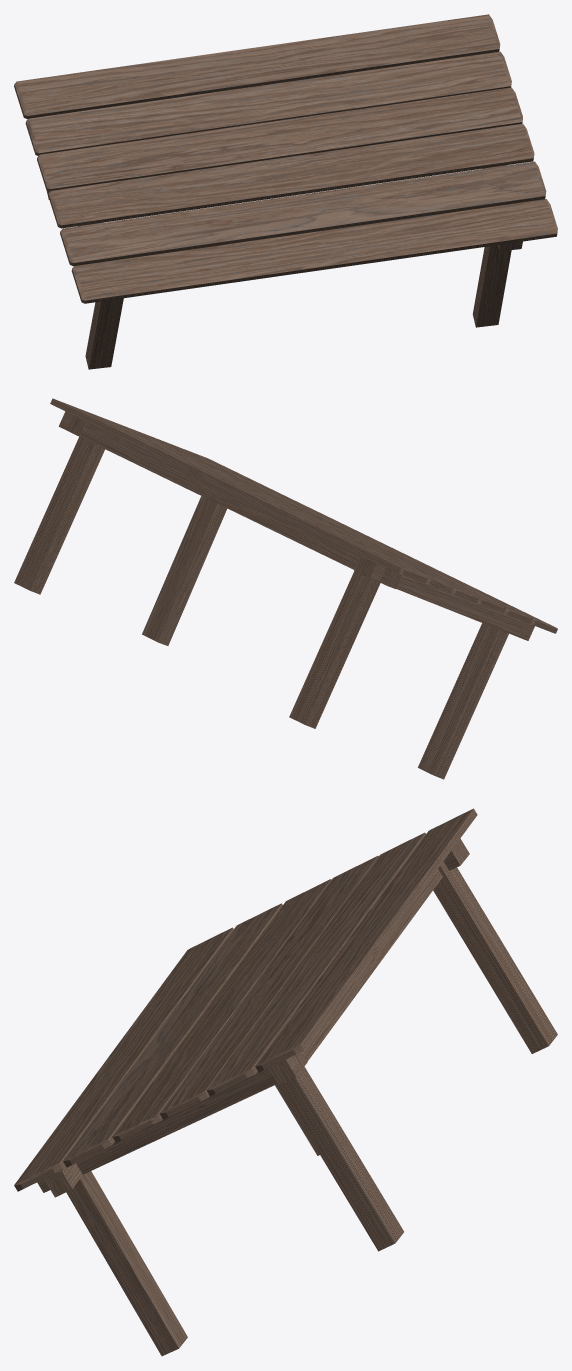
File: table.fbx
3 views of the same model, one above another, from view 1: azimuth 30°, elevation 25°; view 2: azimuth 150°, elevation 25°; view 3: azimuth 270°, elevation 25° (orthographic). The views are drawn at different scales.
Parts seen in each view (by area): view 1: polySurface82; view 2: polySurface82; view 3: polySurface82.
Boxes of the visible parts, x1,y1,x2,y2 form: polySurface82: (14, 14, 557, 369); polySurface82: (14, 398, 557, 779); polySurface82: (14, 808, 557, 1356).
Size of the model in its own units: 38.84 by 22.03 by 31.17.
Materials: 1 (1 with a texture image).
